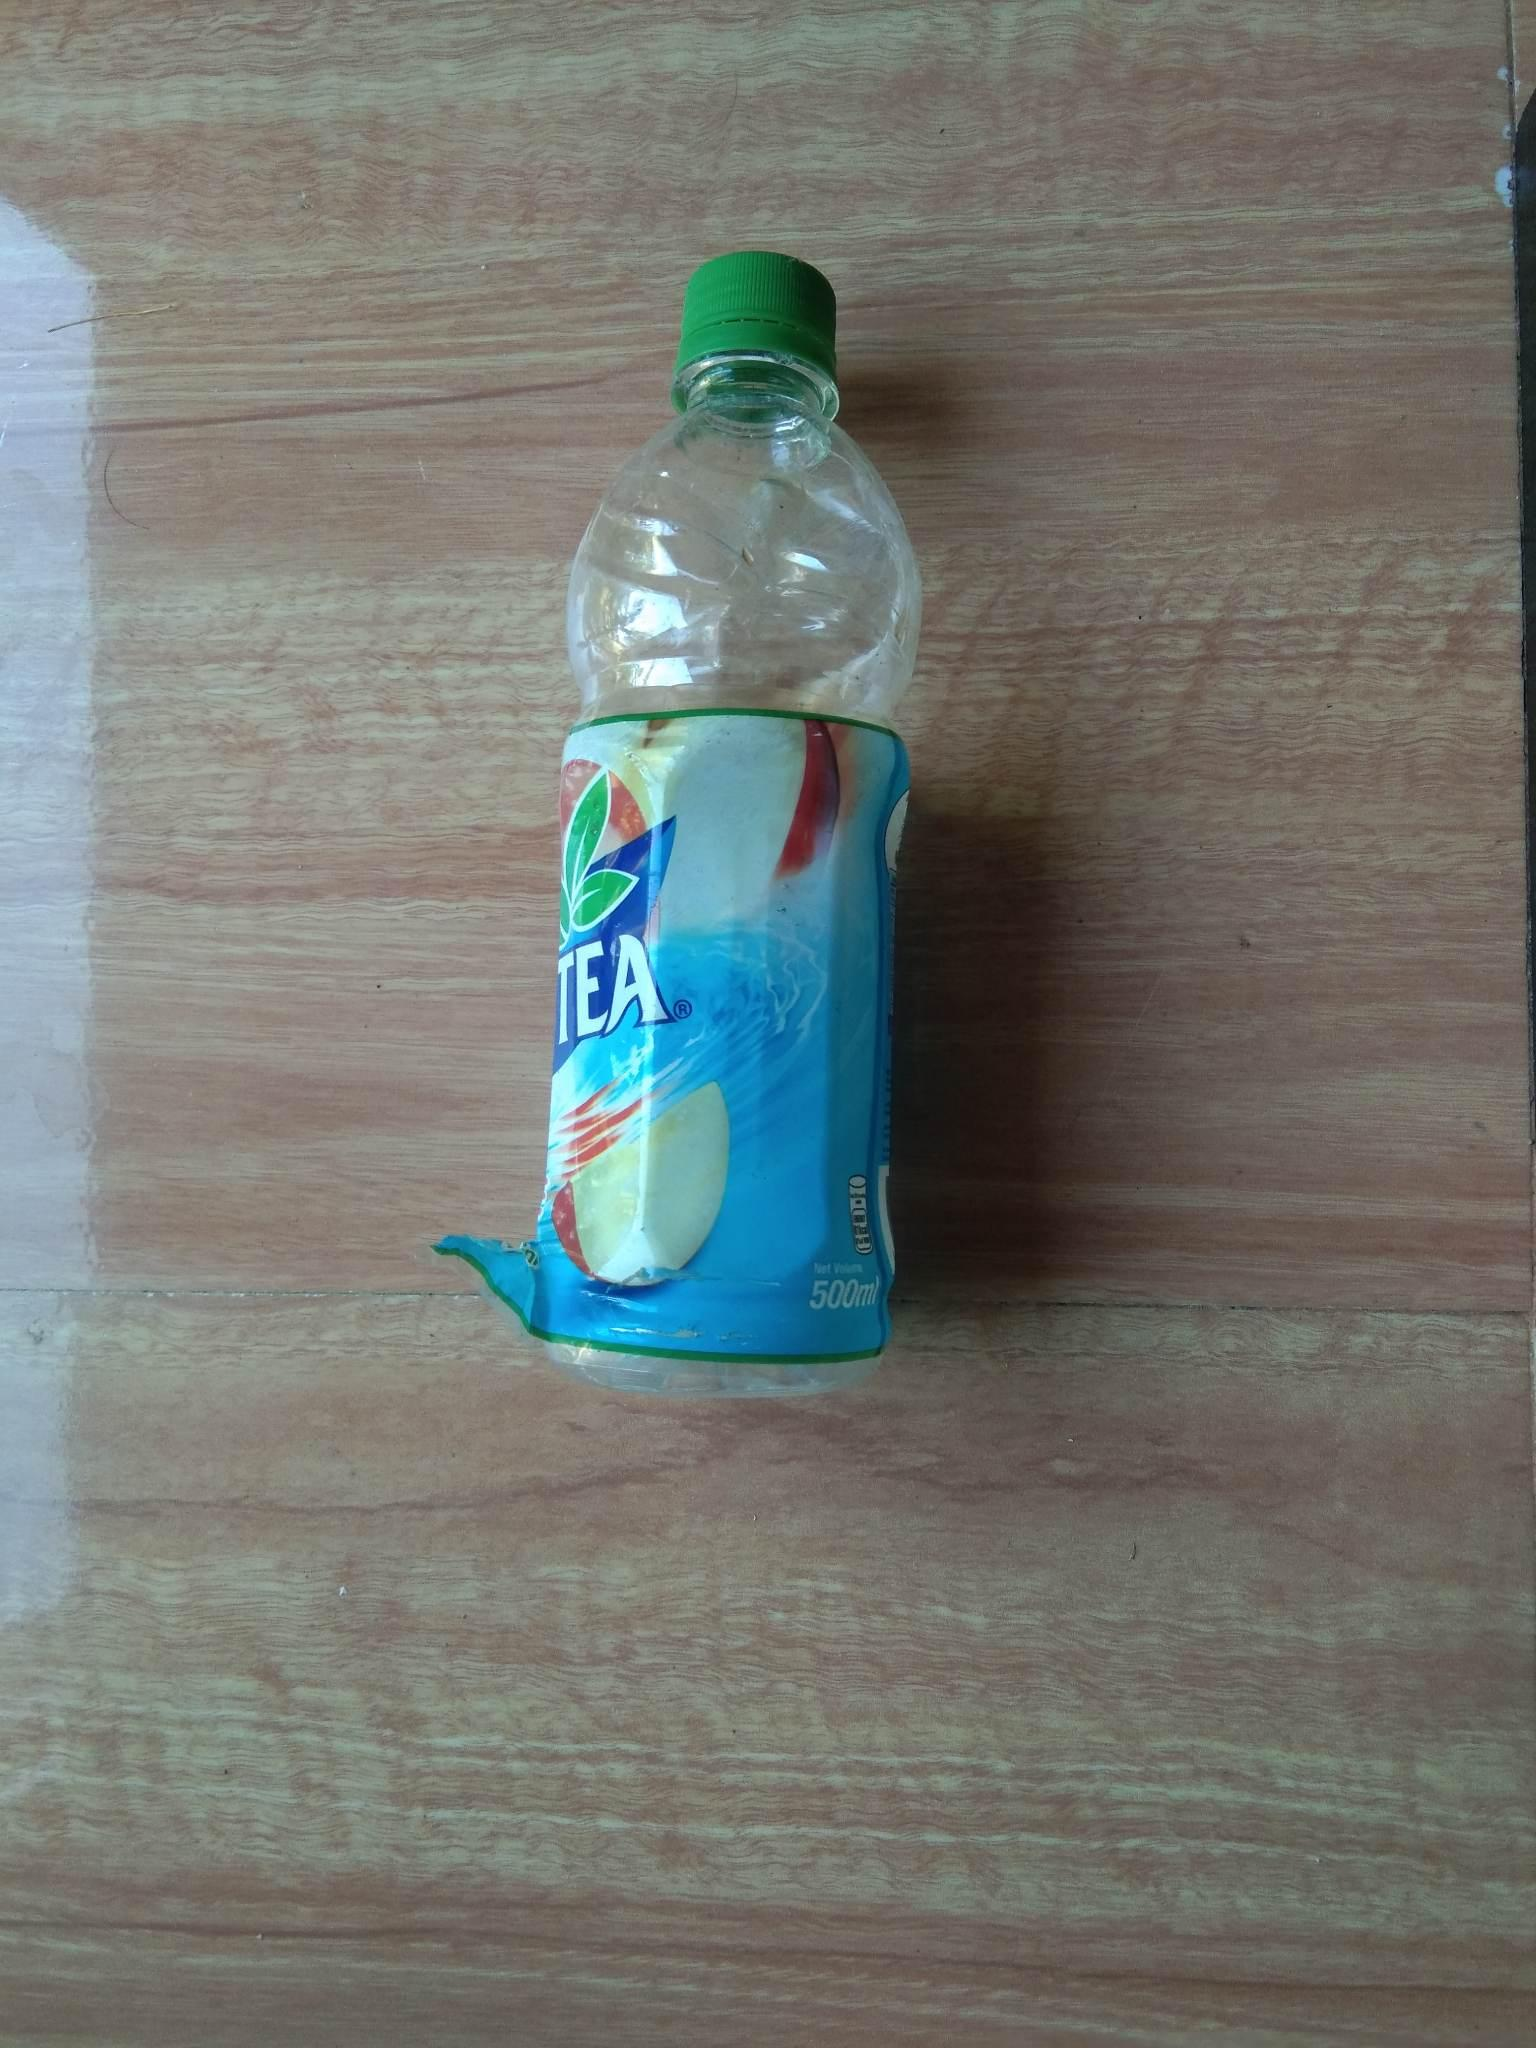plastic: (432, 184, 1050, 1438)
